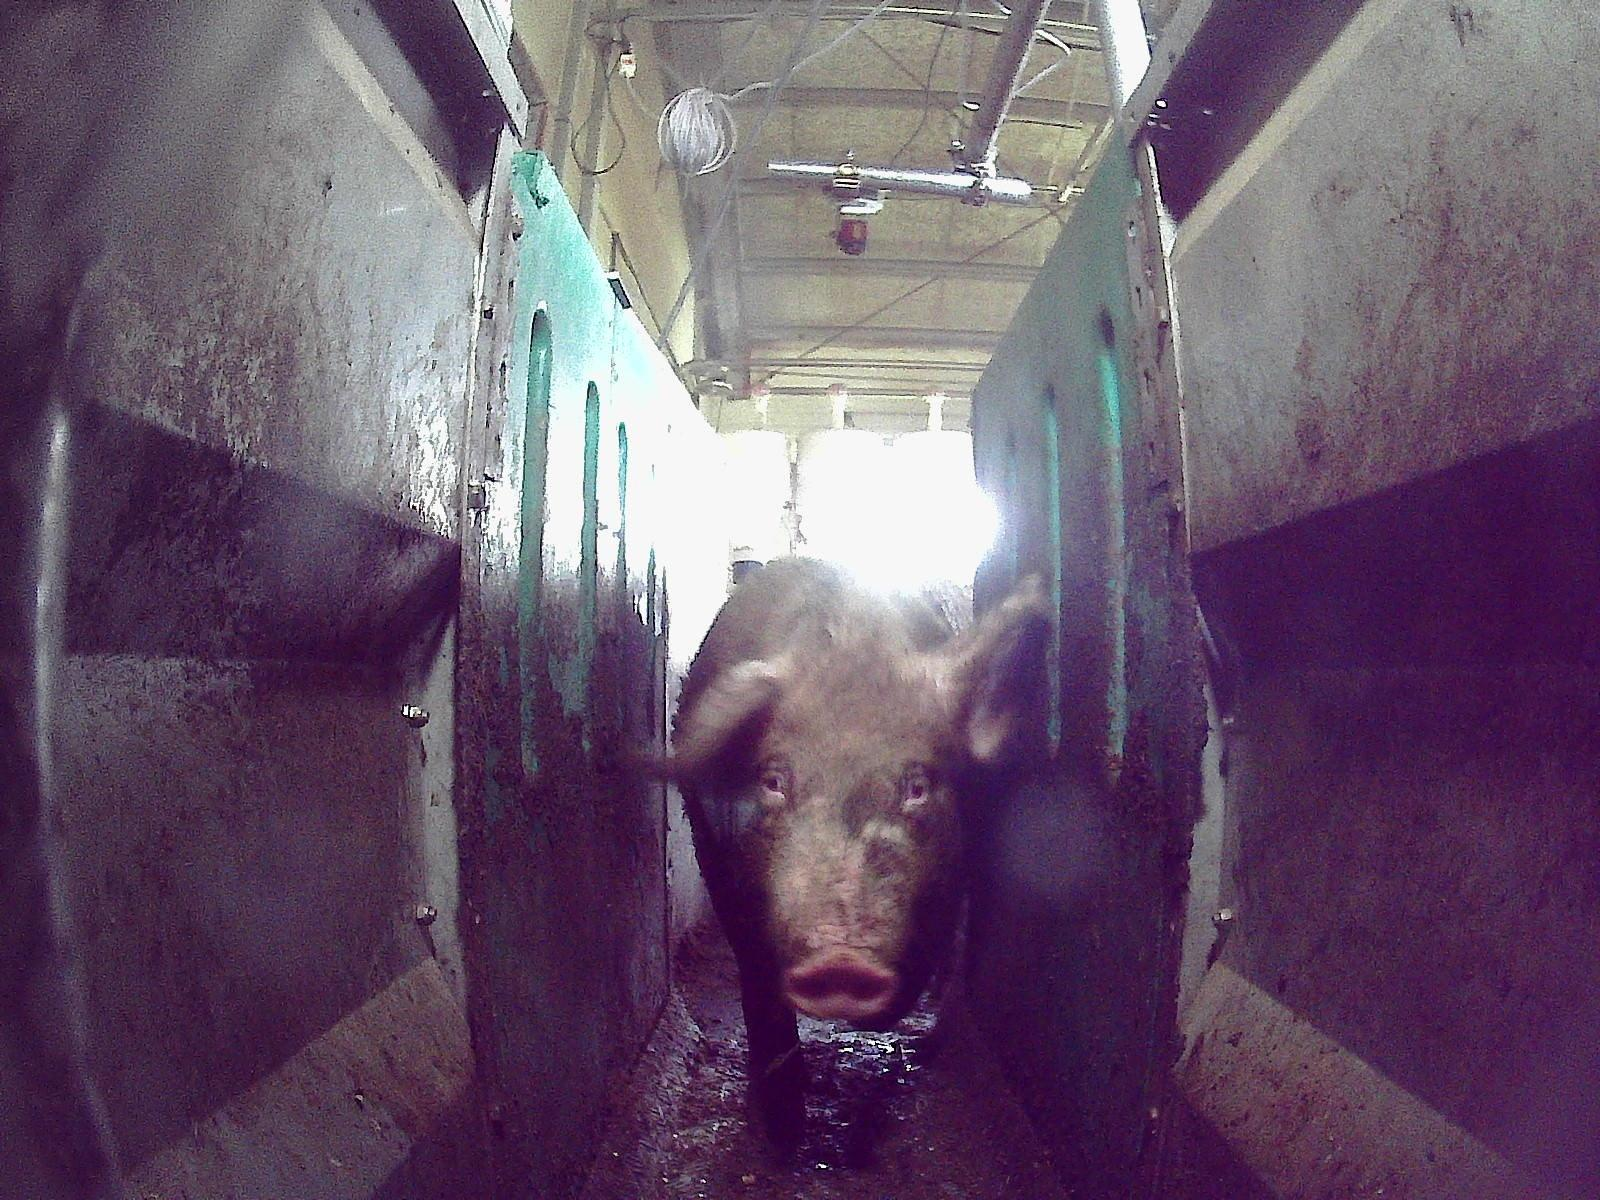Face: (731, 653, 965, 1019)
